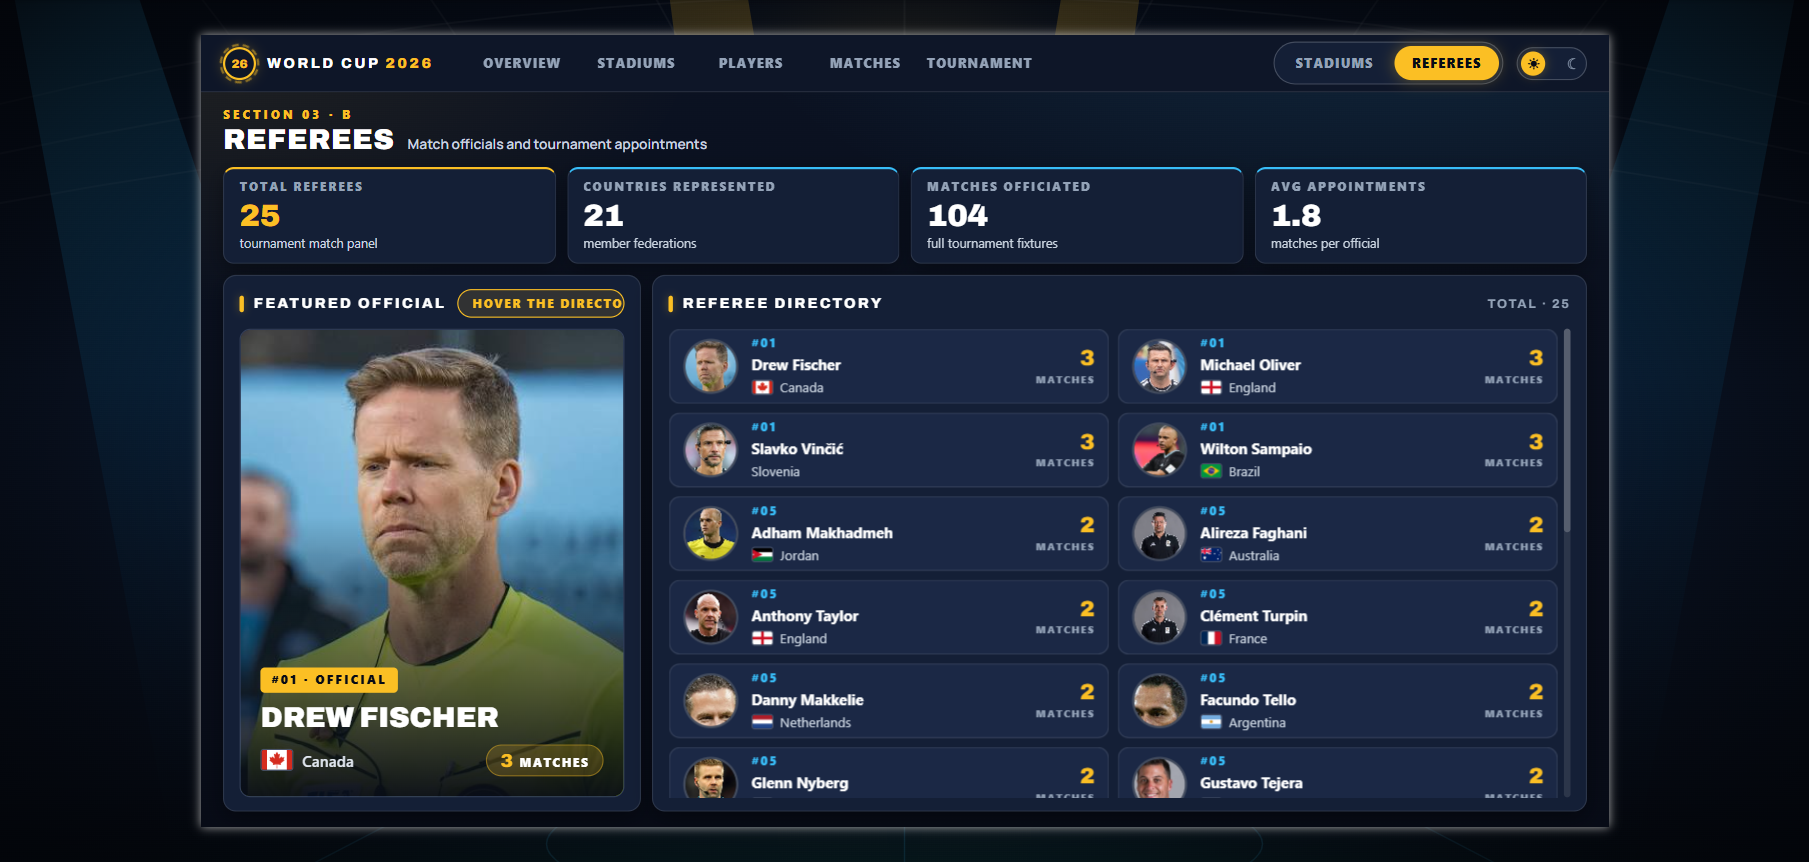

What the dashboard file says about the page in this screenshot:
{"tool":"powerbi","page":{"name":"Stadiums & Referees Page","canvas":[1280,720],"ordinal":2},"visuals":[{"type":"htmlContent443BE3AD55E043BF878BED274D3A6855","fields":{"content":["HTML Visuals.Stadiums_Referees_Page"]},"box":[0,0,1280,720],"z":0},{"type":"actionButton","title":"Tournament","box":[656,0,104,51],"z":1},{"type":"actionButton","title":"Matches","box":[552,0,104,51],"z":2},{"type":"actionButton","title":"Players","box":[448,0,104,51],"z":3},{"type":"actionButton","title":"Overview","box":[240,0,104,51],"z":5}]}

Visuals, with their boxes on the page's 1280x720 design canvas (x1, y1, x2, y2). These are canvas units, not pixel positions in the 1809x862 screenshot, which may show the page scaled, cropped or inside an application window:
htmlContent443BE3AD55E043BF878BED274D3A6855 - HTML Visuals.Stadiums_Referees_Page: {"x1": 0, "y1": 0, "x2": 1280, "y2": 720}
"Tournament" actionButton: {"x1": 656, "y1": 0, "x2": 760, "y2": 51}
"Matches" actionButton: {"x1": 552, "y1": 0, "x2": 656, "y2": 51}
"Players" actionButton: {"x1": 448, "y1": 0, "x2": 552, "y2": 51}
"Overview" actionButton: {"x1": 240, "y1": 0, "x2": 344, "y2": 51}
